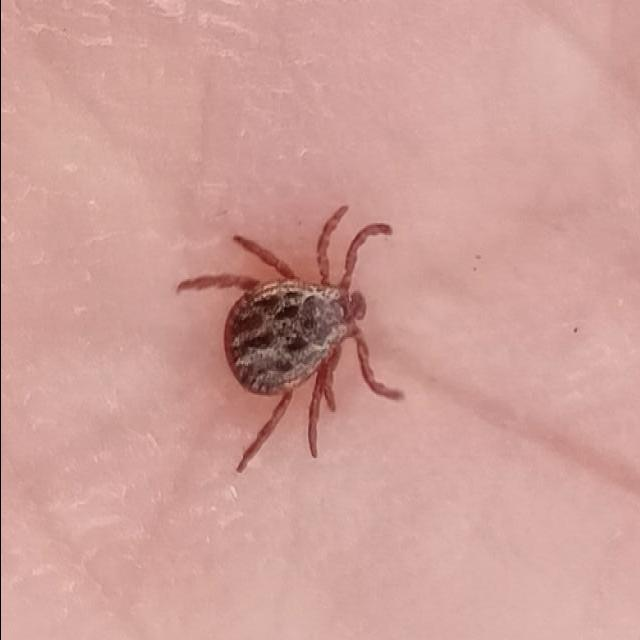Dermacentor Reticulatus-M: (174, 204, 403, 471)
